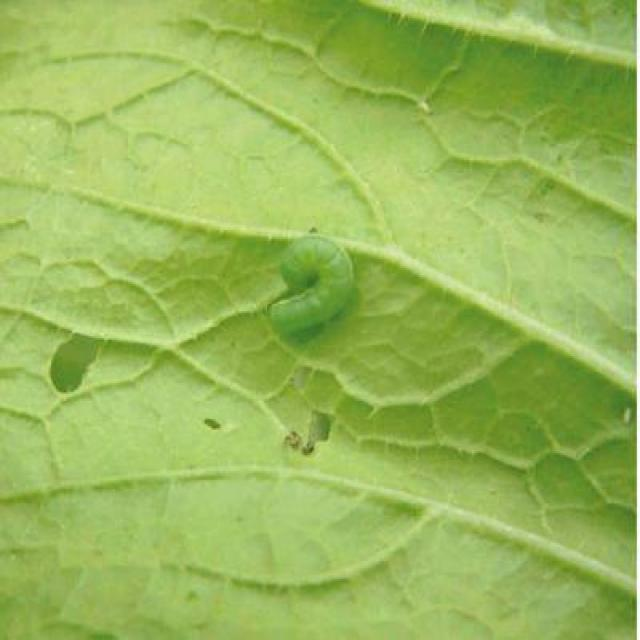BeetArmyWorm-Larva-: (253, 218, 361, 338)
